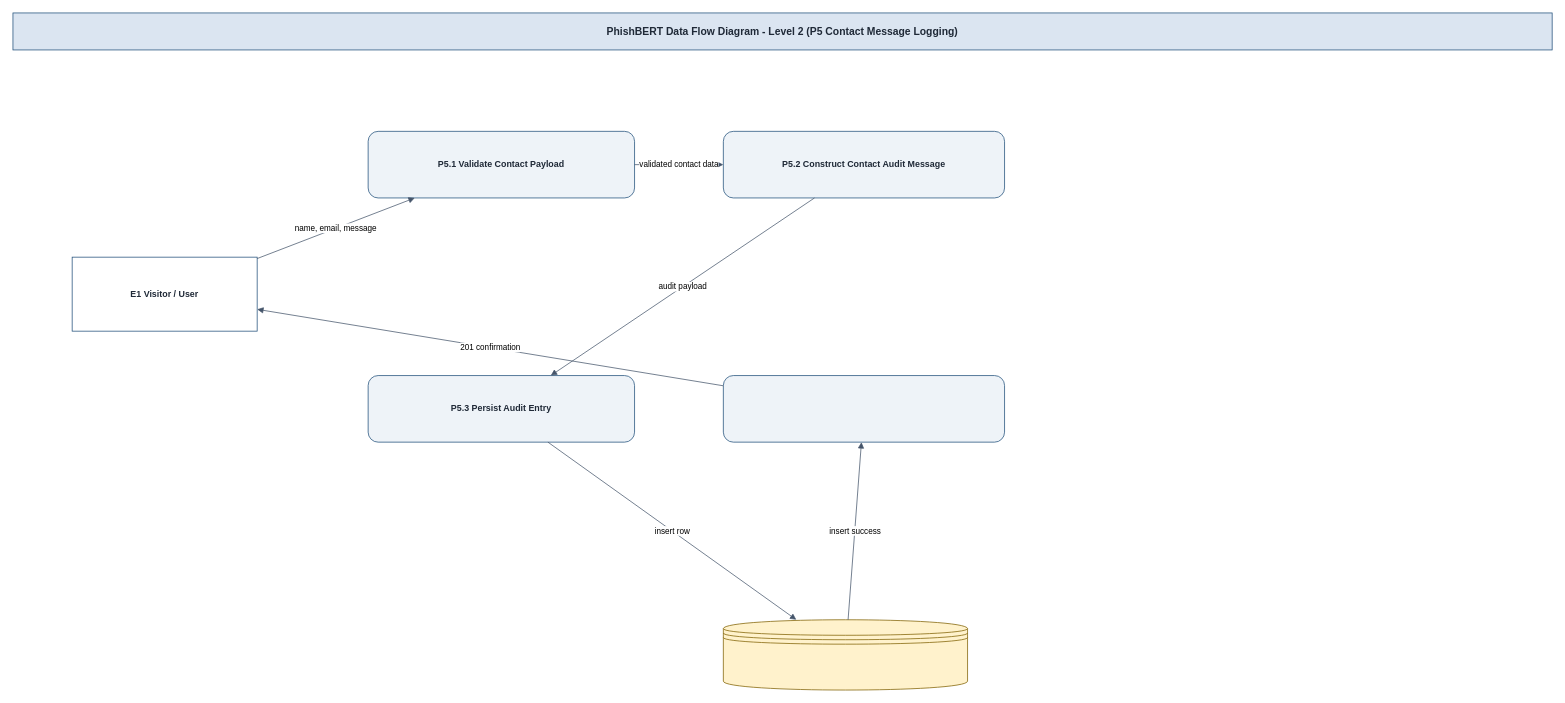
Some shapes in this 1565 by 703 pixel diagram are drawn without their labels. The shapes that lost their labels are listed below. From the top down, each one's centre as x and y in pixels, then its label:
[864,408]: P5.4 Return Confirmation
[845,654]: D1 phish_audit_logs
